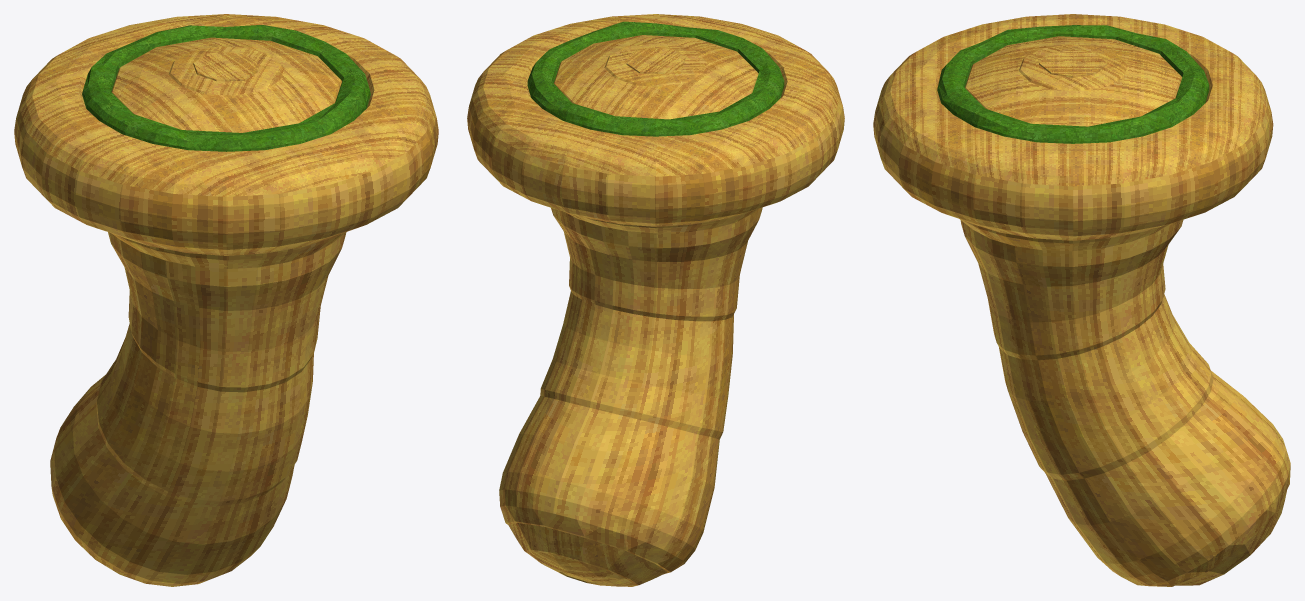
The model's file is KinokoTwinsPlanetALow.dae.
3 renders of one model, left to right at view 1: azimuth 30°, elevation 25°; view 2: azimuth 150°, elevation 25°; view 3: azimuth 270°, elevation 25°, orthographic. The views are drawn at different scales.
Visible parts, largest first — view 1: m0, m1; view 2: m0, m1; view 3: m0, m1.
Boxes of the visible parts, x1=… form: m0: x1=14, y1=14, x2=438, y2=586; m1: x1=82, y1=25, x2=370, y2=151; m0: x1=467, y1=14, x2=844, y2=586; m1: x1=527, y1=21, x2=784, y2=136; m0: x1=873, y1=14, x2=1290, y2=586; m1: x1=937, y1=25, x2=1209, y2=143.
Size of the model in its own units: 1632 by 2298 by 1693.
Materials: 2 (2 with a texture image).
